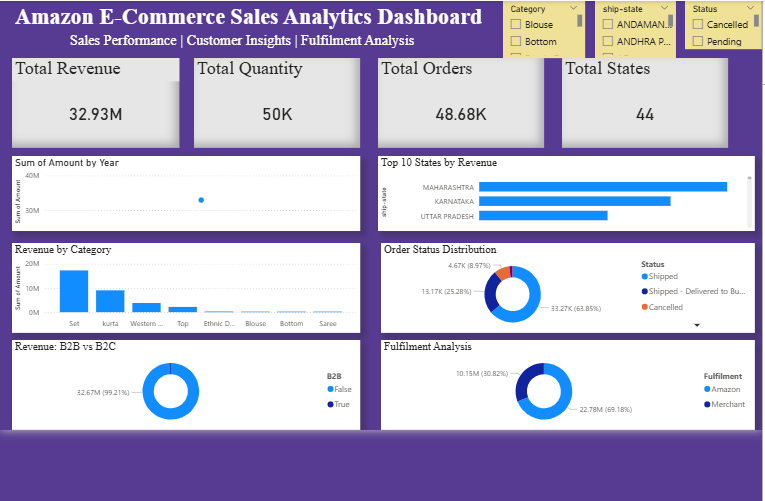

This screenshot's page, from the dashboard's own definition file:
{"tool":"powerbi","page":{"name":"Overview Dashboard","canvas":[1280,720],"ordinal":0},"visuals":[{"type":"textbox","box":[20.2,0,831.5,80.6],"z":0},{"type":"textbox","box":[112.5,48.7,596.3,79],"z":1000},{"type":"card","title":"Total Revenue","fields":{"Values":["Sum(amazon_sales_db amazon sale report.Amount)"]},"box":[20.2,95.7,280.5,151.2],"z":2000},{"type":"card","title":"Total Orders","fields":{"Values":["Count(amazon_sales_db amazon sale report.Order ID)"]},"box":[635,95.7,278.8,151.2],"z":3000},{"type":"card","title":"Total Quantity","fields":{"Values":["Sum(amazon_sales_db amazon sale report.Qty)"]},"box":[325.9,95.7,278.8,151.2],"z":4000},{"type":"card","title":"Total States","fields":{"Values":["Count(amazon_sales_db amazon sale report.ship-state)"]},"box":[944,95.7,278.8,151.2],"z":5000},{"type":"clusteredColumnChart","title":"Revenue by Category","fields":{"Category":["amazon_sales_db amazon sale report.Category"],"Y":["Sum(amazon_sales_db amazon sale report.Amount)"]},"box":[20.2,406.5,584.6,151.2],"z":6000},{"type":"clusteredBarChart","title":"Top 10 States by Revenue","fields":{"Category":["amazon_sales_db amazon sale report.ship-state"],"Y":["Sum(amazon_sales_db amazon sale report.Amount)"]},"box":[635,260.4,633.3,126],"z":7000},{"type":"donutChart","title":"Order Status Distribution","fields":{"Category":["amazon_sales_db amazon sale report.Status"],"Y":["CountNonNull(amazon_sales_db amazon sale report.Order ID)"]},"box":[640,406.5,628.2,151.2],"z":8000},{"type":"donutChart","title":"Fulfilment Analysis","fields":{"Category":["amazon_sales_db amazon sale report.Fulfilment"],"Y":["Sum(amazon_sales_db amazon sale report.Amount)"]},"box":[640,569.4,628.2,151.2],"z":9000},{"type":"lineChart","fields":{"Category":["amazon_sales_db amazon sale report.Date.Variation.Date Hierarchy.Year","amazon_sales_db amazon sale report.Date.Variation.Date Hierarchy.Quarter","amazon_sales_db amazon sale report.Date.Variation.Date Hierarchy.Month","amazon_sales_db amazon sale report.Date.Variation.Date Hierarchy.Day"],"Y":["Sum(amazon_sales_db amazon sale report.Amount)"]},"box":[20.2,260.4,584.6,126],"z":10000},{"type":"donutChart","title":"Revenue: B2B vs B2C","fields":{"Category":["amazon_sales_db amazon sale report.B2B"],"Y":["Sum(amazon_sales_db amazon sale report.Amount)"]},"box":[20.2,569.4,584.6,151.2],"z":11000},{"type":"slicer","fields":{"Values":["amazon_sales_db amazon sale report.Category"]},"box":[844.9,0,137.7,95.7],"z":12000},{"type":"slicer","fields":{"Values":["amazon_sales_db amazon sale report.ship-state"]},"box":[999.5,0,136.1,95.7],"z":13000},{"type":"slicer","fields":{"Values":["amazon_sales_db amazon sale report.Status"]},"box":[1150.7,0,129.3,80.6],"z":14000}]}

Visuals, with their boxes in screenshot pixels (x1, y1, x2, y2):
textbox: detection(14, 2, 504, 49)
textbox: detection(68, 31, 420, 77)
"Total Revenue" card: detection(14, 58, 179, 148)
"Total Orders" card: detection(376, 58, 541, 148)
"Total Quantity" card: detection(194, 58, 358, 148)
"Total States" card: detection(558, 58, 723, 148)
"Revenue by Category" clusteredColumnChart: detection(14, 242, 358, 331)
"Top 10 States by Revenue" clusteredBarChart: detection(376, 155, 750, 230)
"Order Status Distribution" donutChart: detection(379, 242, 749, 331)
"Fulfilment Analysis" donutChart: detection(379, 338, 749, 427)
lineChart - amazon_sales_db amazon sale report.Date.Variation.Date Hierarchy.Year x amazon_sales_db amazon sale report.Date.Variation.Date Hierarchy.Quarter: detection(14, 155, 358, 230)
"Revenue: B2B vs B2C" donutChart: detection(14, 338, 358, 427)
slicer - amazon_sales_db amazon sale report.Category: detection(500, 2, 581, 58)
slicer - amazon_sales_db amazon sale report.ship-state: detection(591, 2, 671, 58)
slicer - amazon_sales_db amazon sale report.Status: detection(680, 2, 756, 49)
